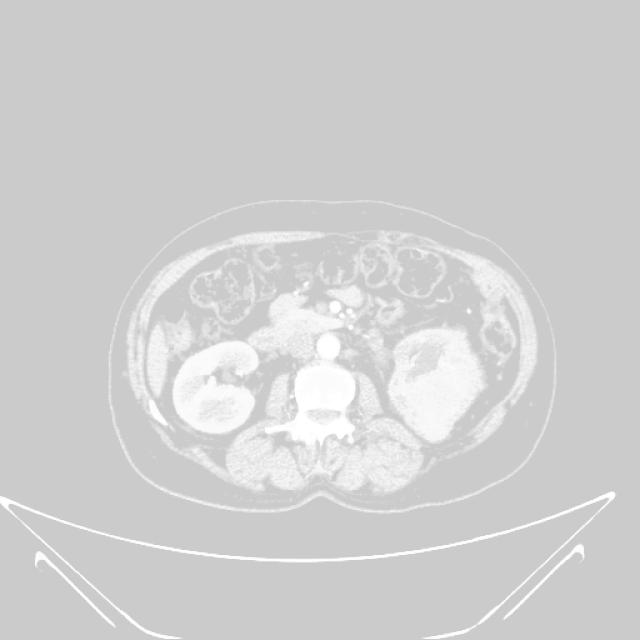TUMOR: (131, 298, 513, 434)
